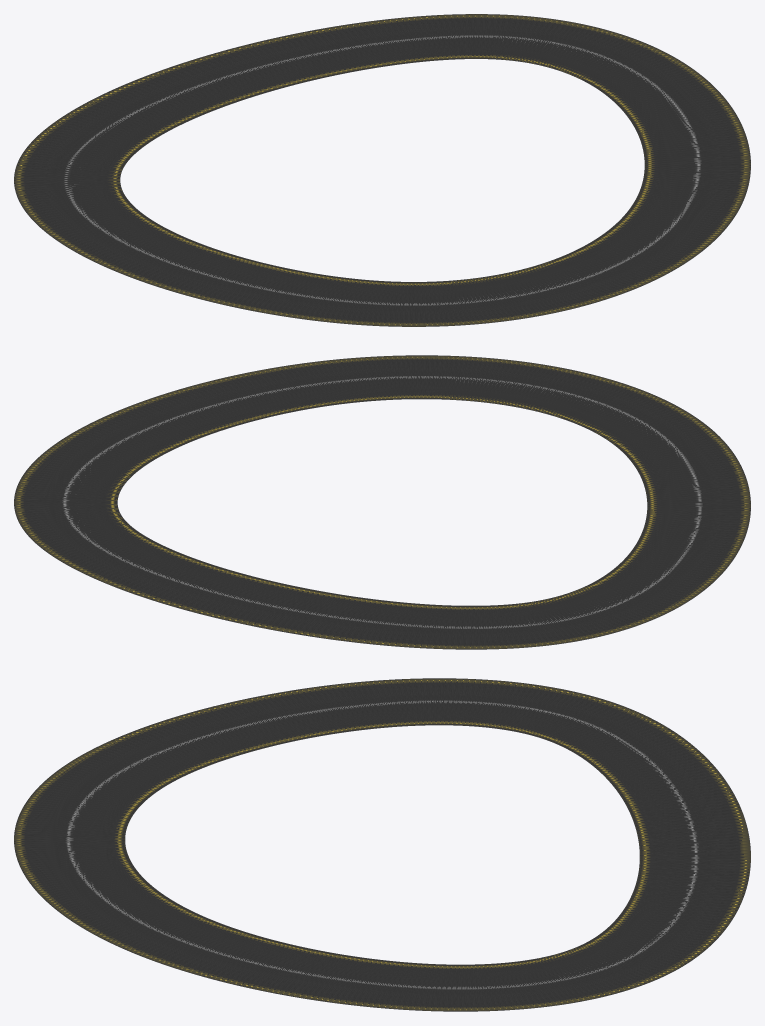
The model's file is pista.obj.
3 renders of one model, top to bottom at view 1: azimuth 30°, elevation 25°; view 2: azimuth 150°, elevation 25°; view 3: azimuth 270°, elevation 25°, orthographic. The views are drawn at different scales.
Visible parts, largest first — view 1: road; view 2: road; view 3: road.
Part boxes in pixels (box(x1,y1,x2,y2)): road: box(14, 14, 750, 326); road: box(14, 355, 750, 649); road: box(14, 678, 750, 1011).
Size of the model in its own units: 1.28 by 0 by 1.19.
Materials: 1 (1 with a texture image).
